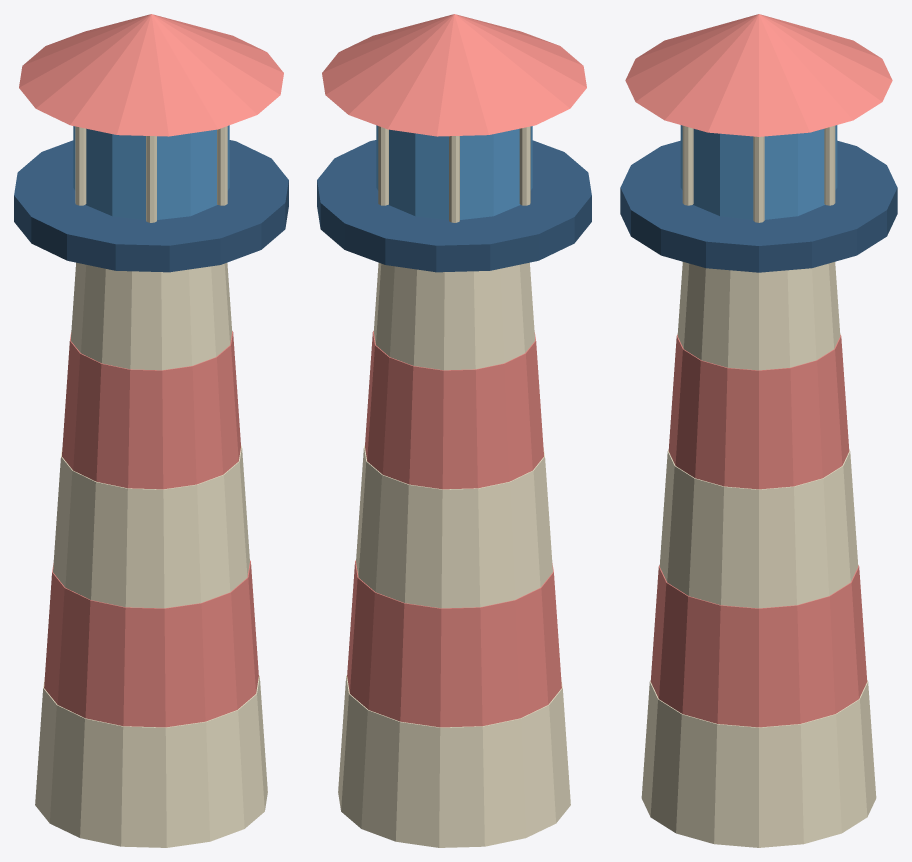
Rendered from lighthouse.glb.
3 views of the same model, side by side, from view 1: azimuth 30°, elevation 25°; view 2: azimuth 150°, elevation 25°; view 3: azimuth 270°, elevation 25° (orthographic).
Parts seen in each view (by area): view 1: lighthouse; view 2: lighthouse; view 3: lighthouse.
Part boxes in pixels (x1,y1,x2,y2): lighthouse: [14, 14, 288, 847]; lighthouse: [317, 14, 591, 847]; lighthouse: [620, 14, 897, 847].
Bounding box in the file's own units: 1.7 × 5.31 × 1.7.
